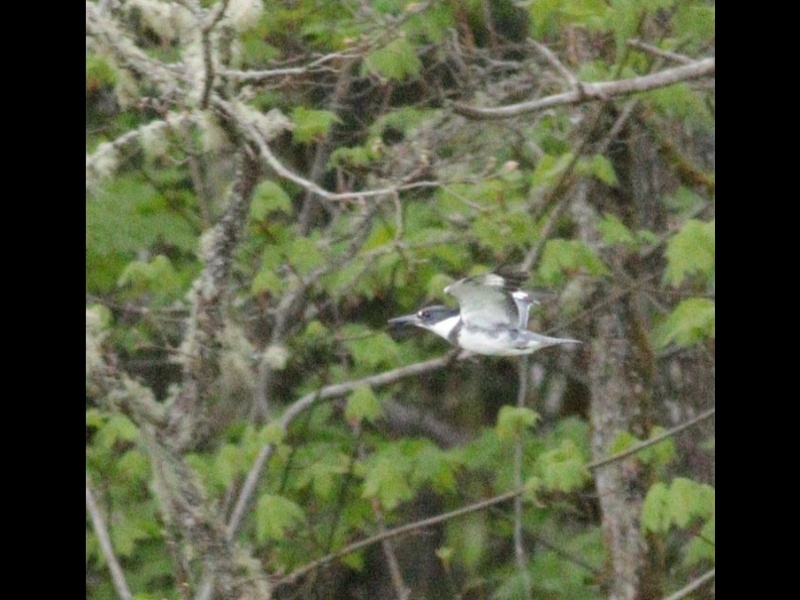kingfisher: (385, 269, 581, 358)
